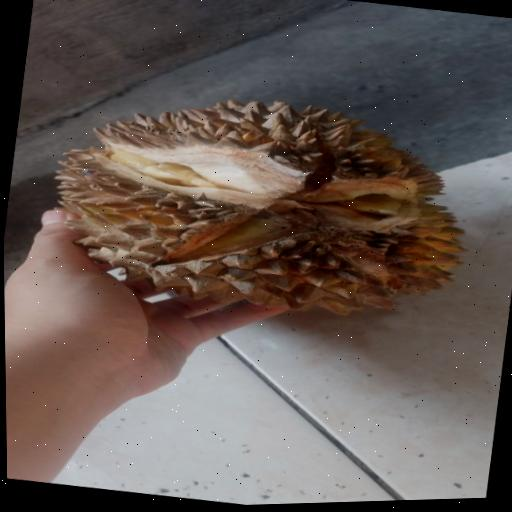rot: (1, 49, 512, 383)
